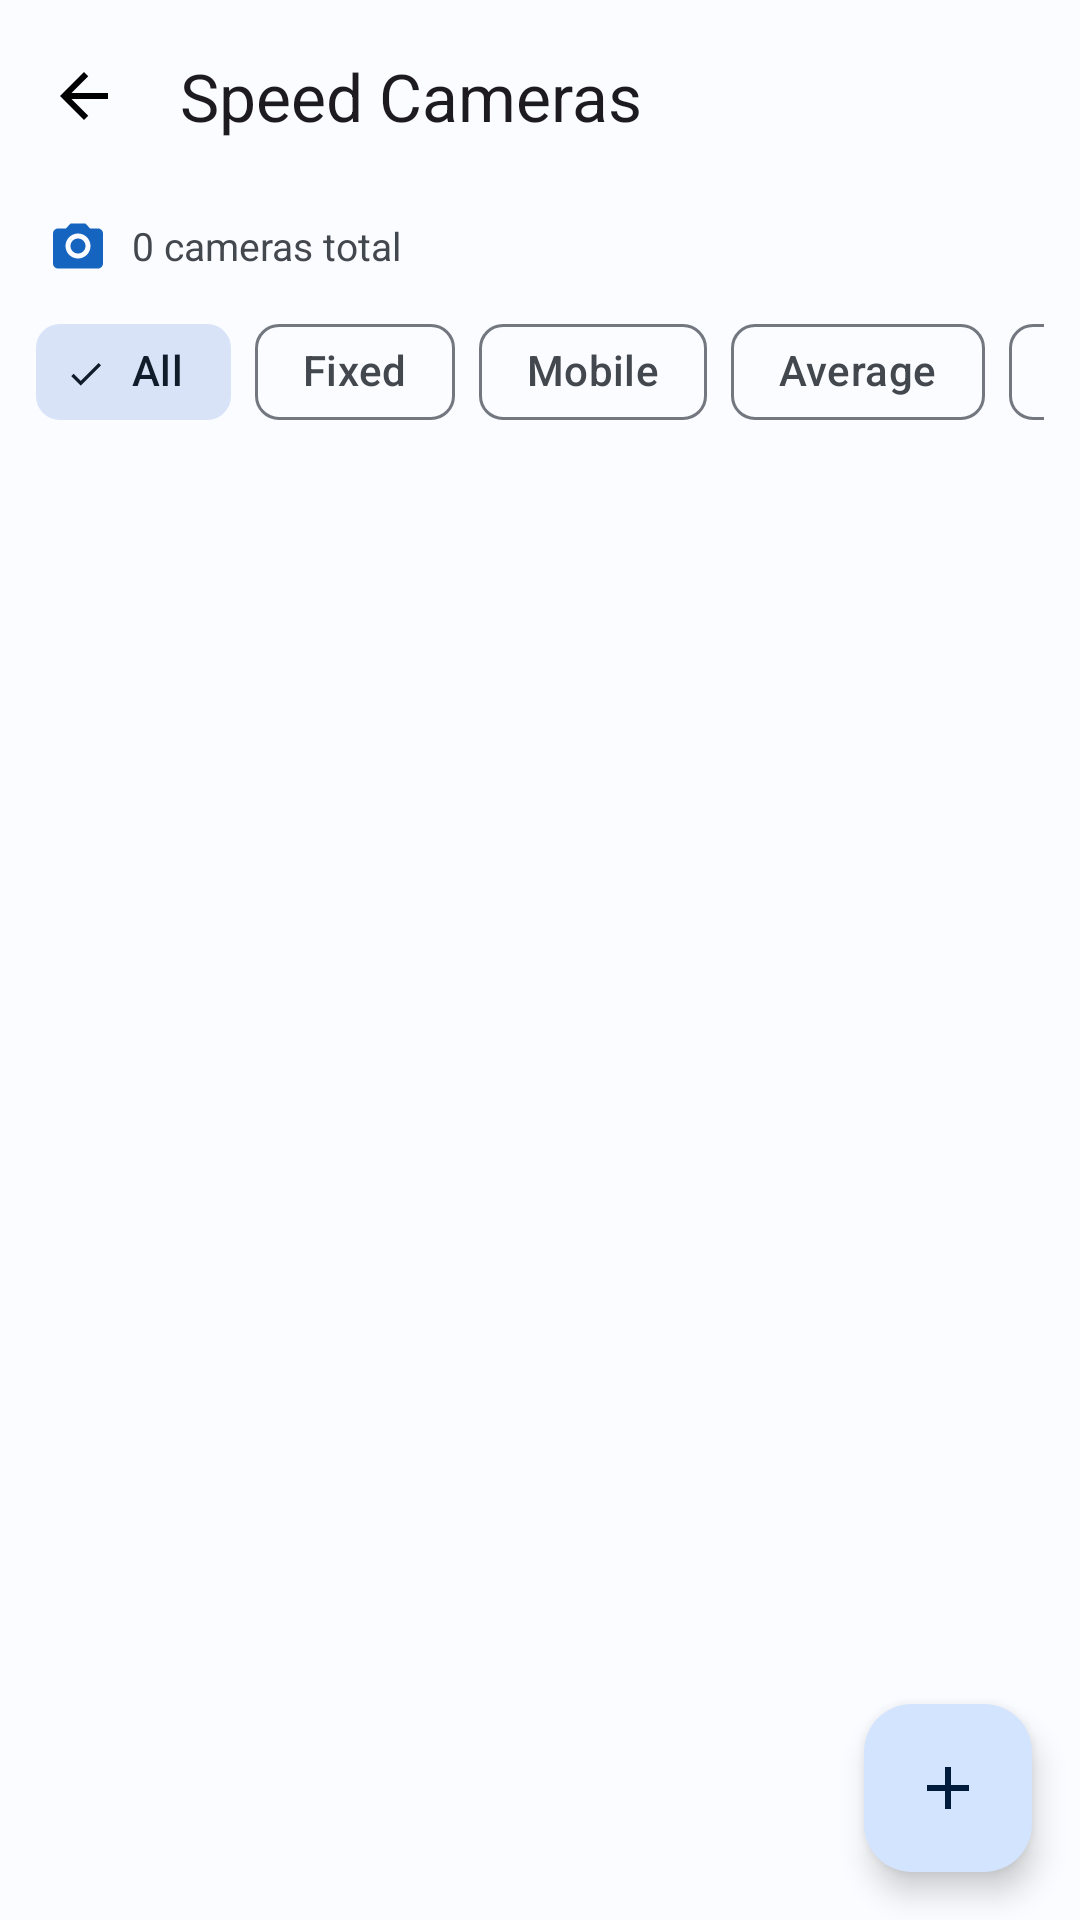

Point at icon controls on the screen. Image size 1080px x 1920px, points as [x,y].
Add speed camera: [948,1788]
